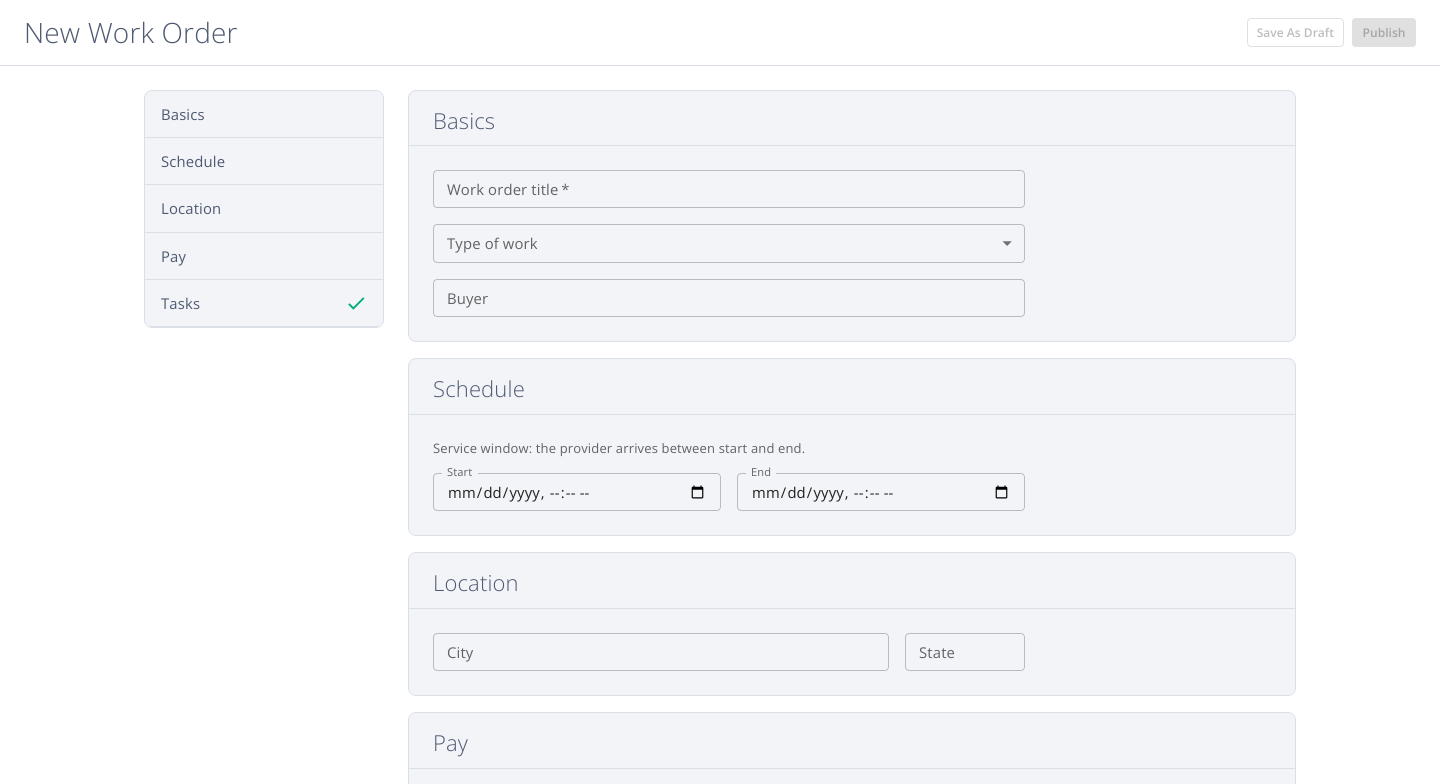
NewWorkOrderPage › shows the API error when saving fails
Type "x" into the field labelled "Work order title *" at (729, 189), box [433,170,1025,208]
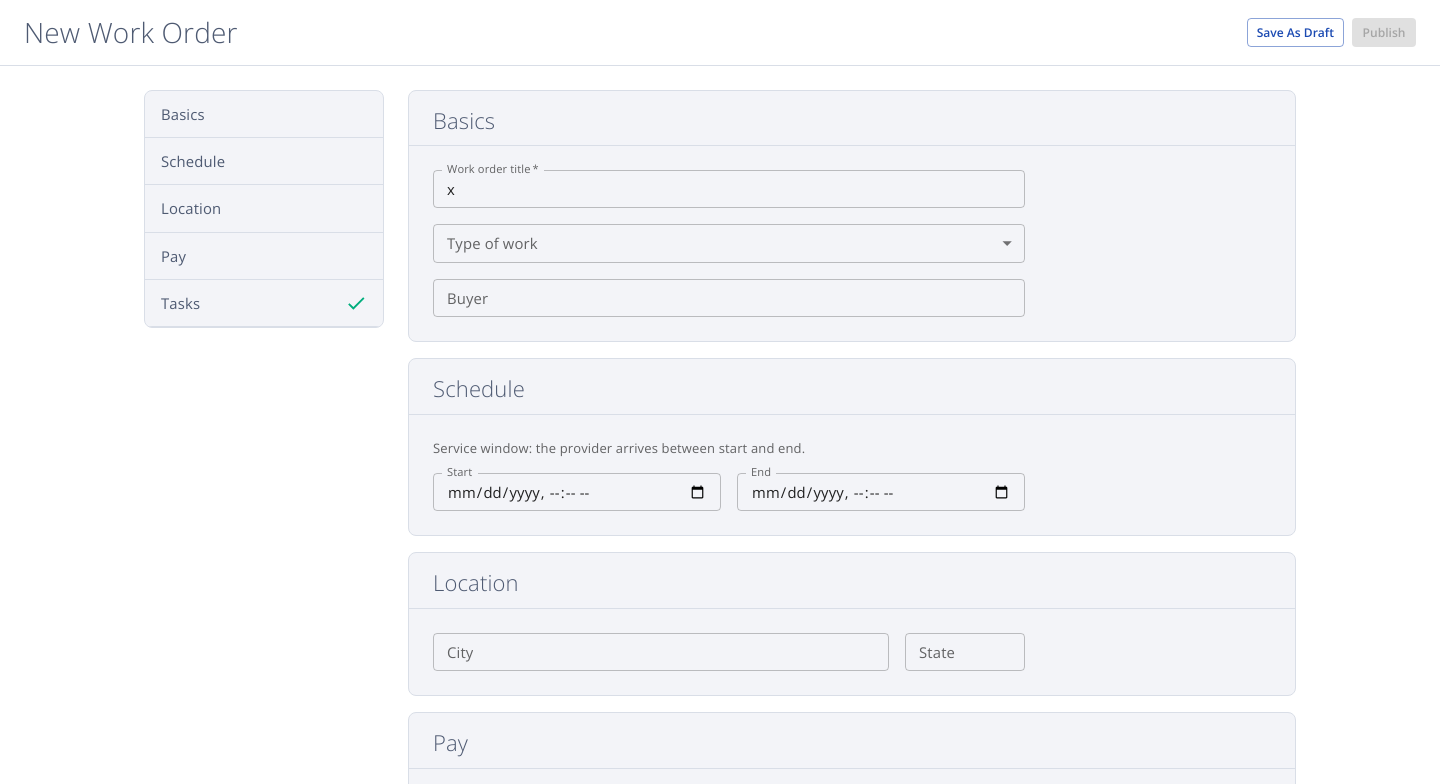
Click the button "Save As Draft" at (1295, 32), box [1247,18,1344,47]
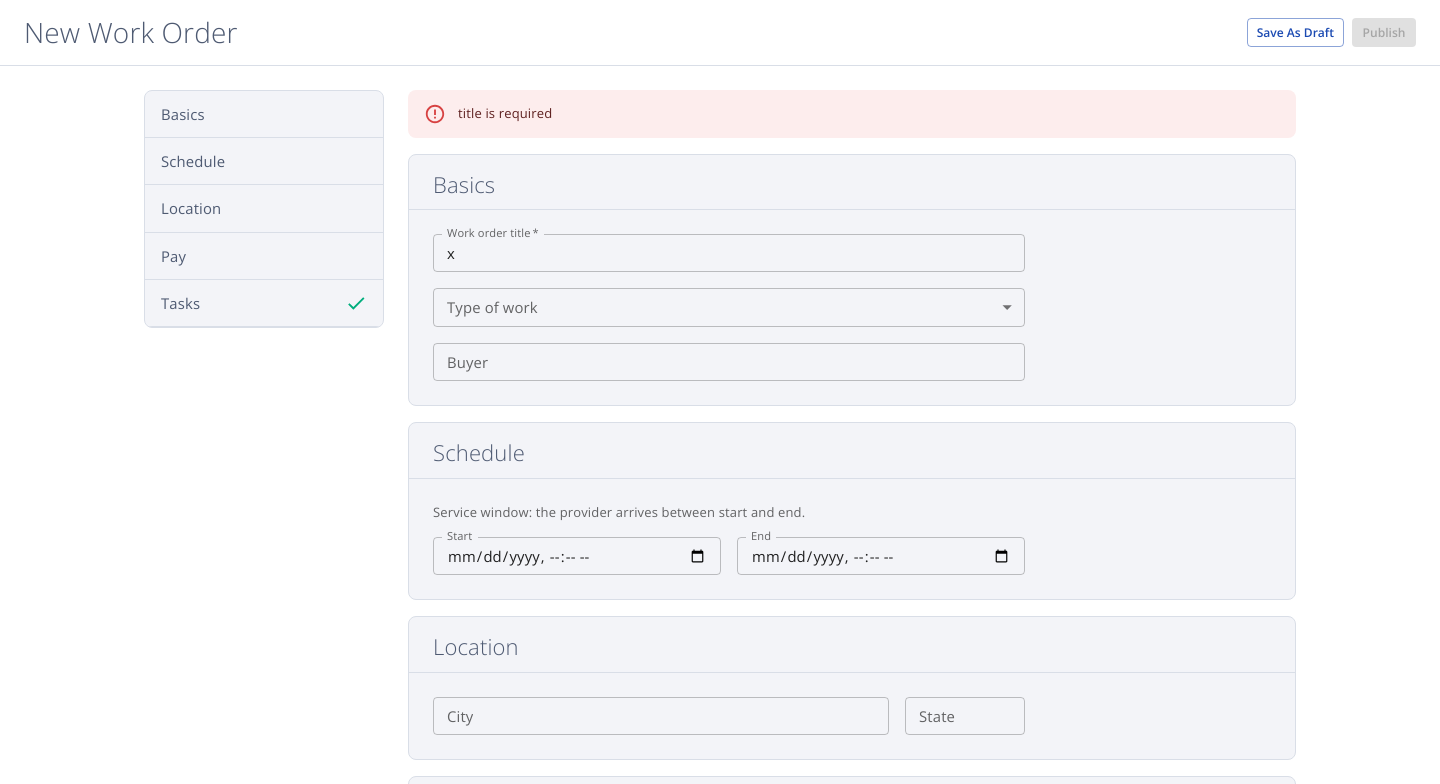
Result: the text "title is required" is shown at [458,104,552,122]
